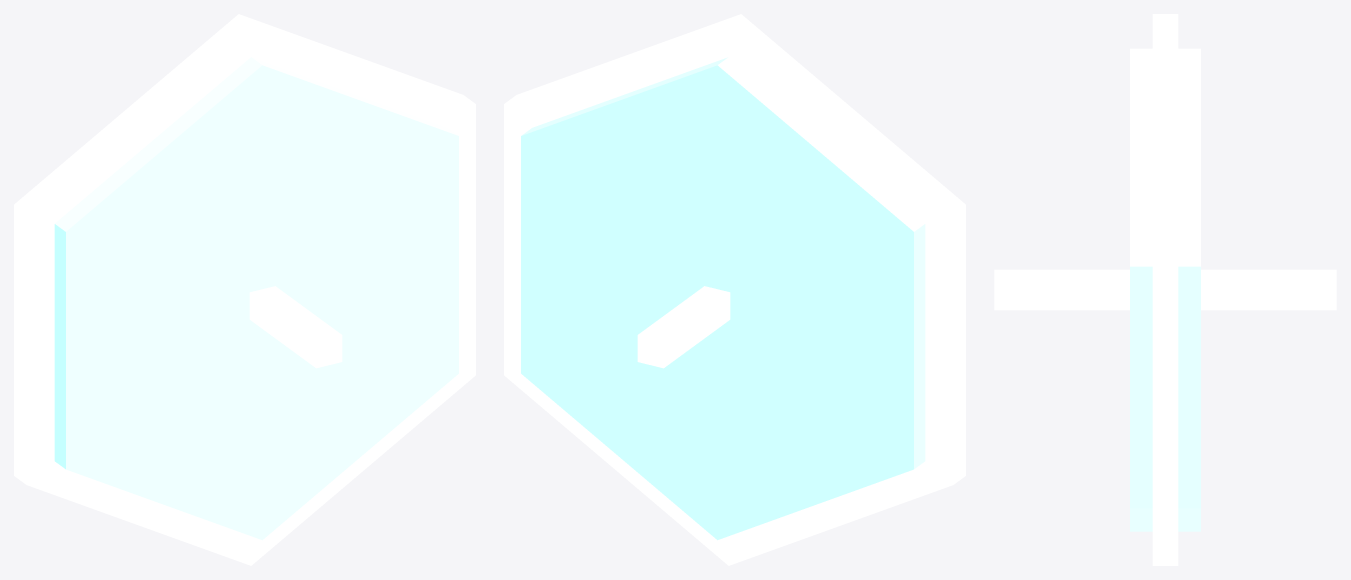
Rendered from interact_buff_shield.glb.
3 renders of one model, left to right at view 1: azimuth 30°, elevation 25°; view 2: azimuth 150°, elevation 25°; view 3: azimuth 270°, elevation 25°, orthographic.
Visible parts, largest first — view 1: interact_buff_shield; view 2: interact_buff_shield; view 3: interact_buff_shield.
Boxes of the visible parts, x1,y1,x2,y2 form: interact_buff_shield: [14, 14, 475, 565]; interact_buff_shield: [504, 14, 965, 565]; interact_buff_shield: [994, 14, 1336, 565].
Bounding box in the file's own units: 2.08 × 2.4 × 1.35.
